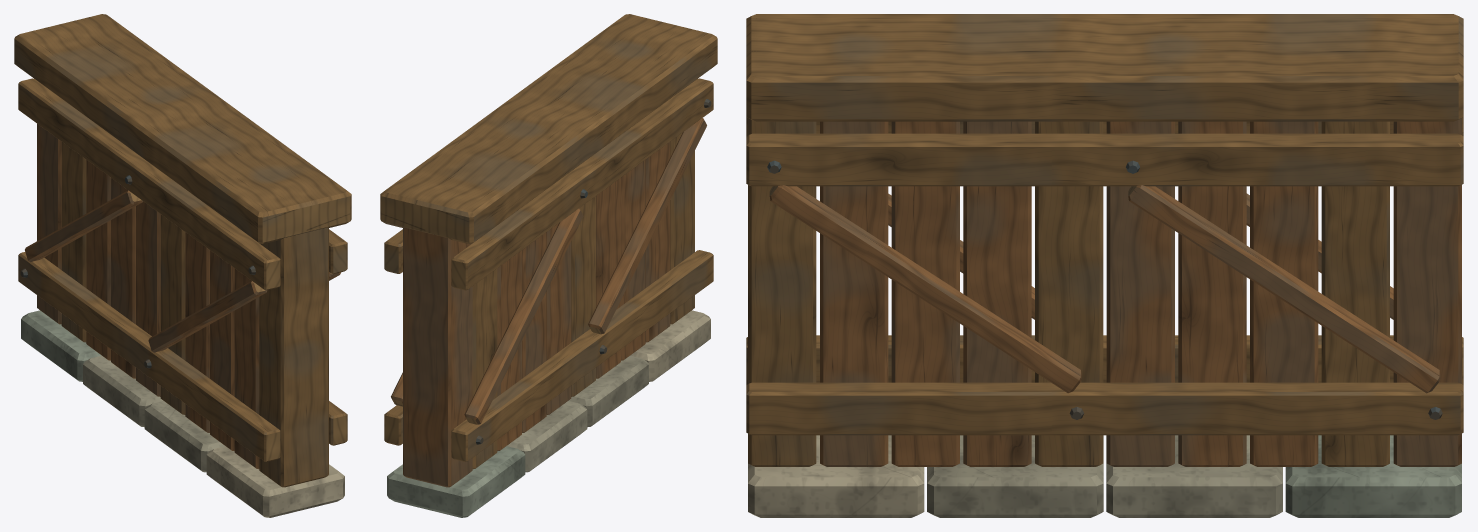
Rendered from b03_wall_256.fbx.
3 renders of one model, left to right at view 1: azimuth 30°, elevation 25°; view 2: azimuth 150°, elevation 25°; view 3: azimuth 270°, elevation 25°, orthographic. The views are drawn at different scales.
Parts seen in each view (by area): view 1: b03_wall_256; view 2: b03_wall_256; view 3: b03_wall_256.
Boxes of the visible parts, x1,y1,x2,y2 form: b03_wall_256: (14,14,351,517); b03_wall_256: (380,14,717,517); b03_wall_256: (746,14,1463,517).
Bounding box in the file's own units: 5610 × 25600 × 17600.
